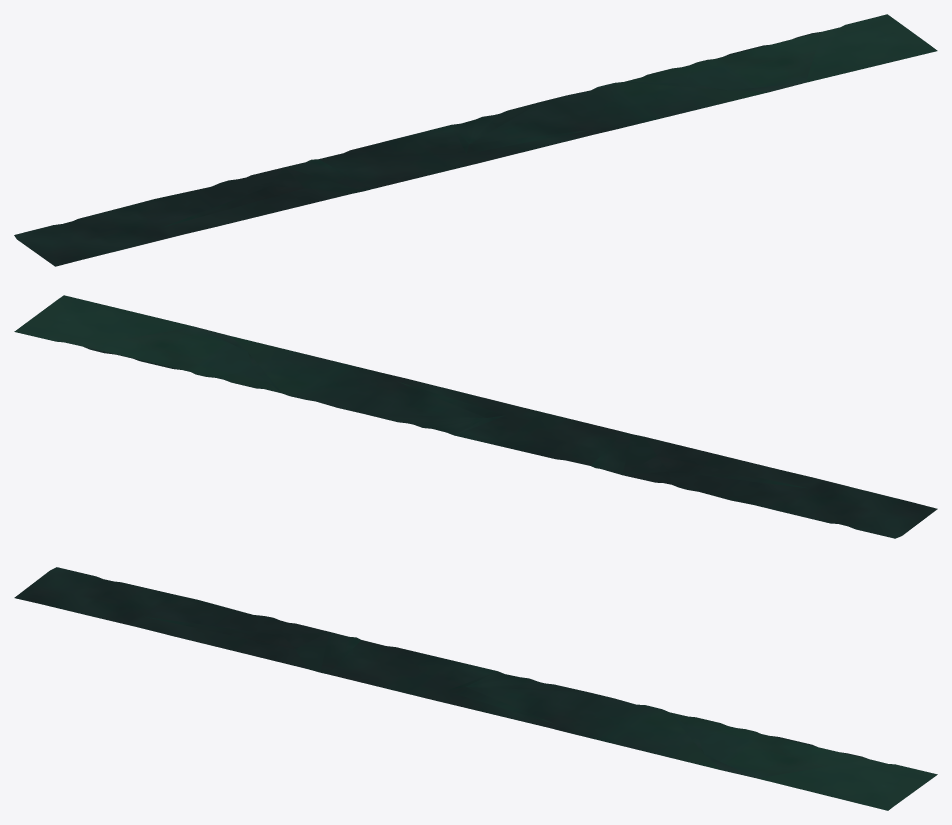
The picture shows the model from 3 angles, top to bottom: view 1: azimuth 30°, elevation 25°; view 2: azimuth 150°, elevation 25°; view 3: azimuth 330°, elevation 25°; orthographic projection.
Size of the model in its own units: 424 by 0.5401 by 41.93.
1 material, 1 textured.
